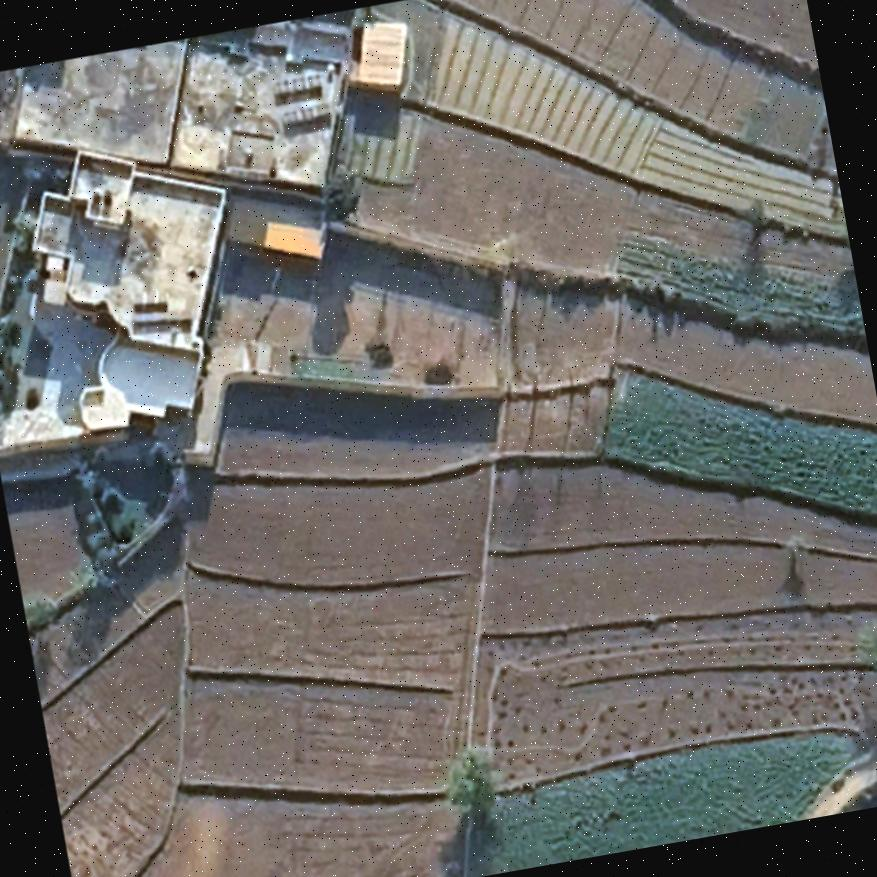Solarpanel: (126, 308, 197, 346), (266, 68, 327, 104), (275, 98, 332, 131), (125, 294, 172, 320)
